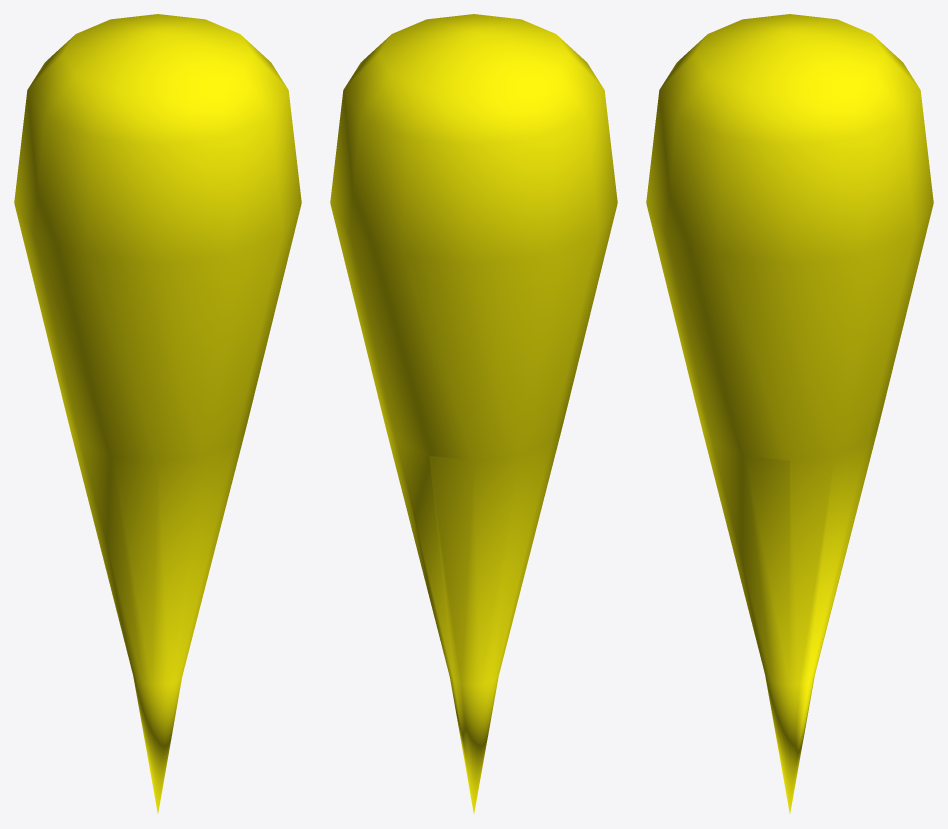
Rendered from bullet1.fbx.
The picture shows the model from 3 angles, left to right: view 1: azimuth 30°, elevation 25°; view 2: azimuth 150°, elevation 25°; view 3: azimuth 270°, elevation 25°; orthographic projection.
Parts seen in each view (by area): view 1: Cone; view 2: Cone; view 3: Cone.
Part boxes in pixels (x1,y1,x2,y2): Cone: (14,14,301,813); Cone: (330,14,617,813); Cone: (646,14,933,813).
Bounding box in the file's own units: 0.0497 × 0.1491 × 0.0497.
Materials: 1 (1 with a texture image).
